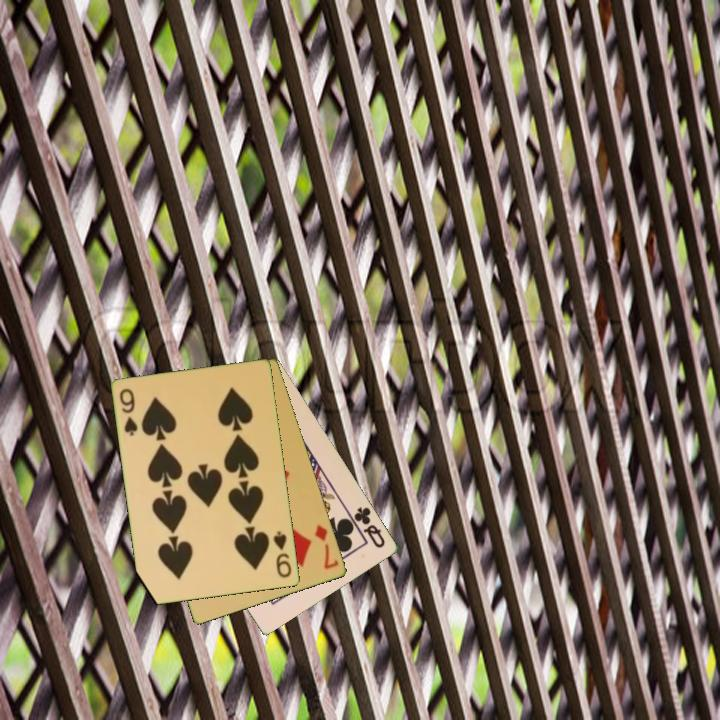7d: (311, 521, 342, 572)
9s: (116, 385, 141, 439), (270, 528, 295, 581)
Qc: (346, 503, 388, 551)
